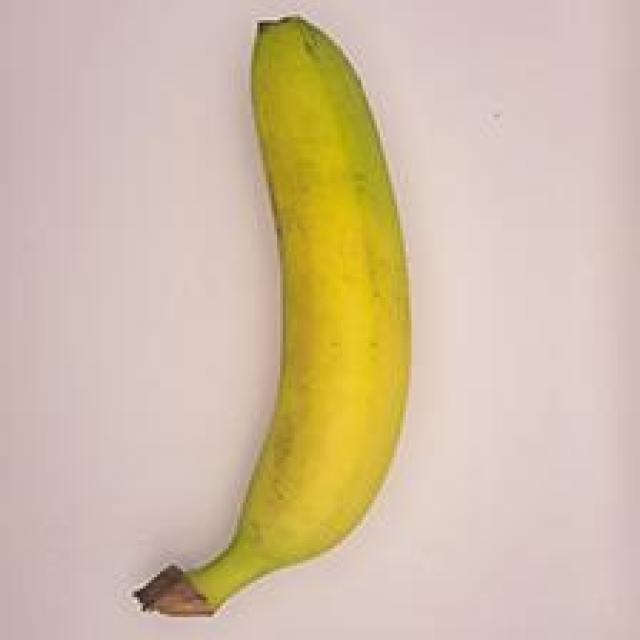unripe: (83, 5, 438, 636)
